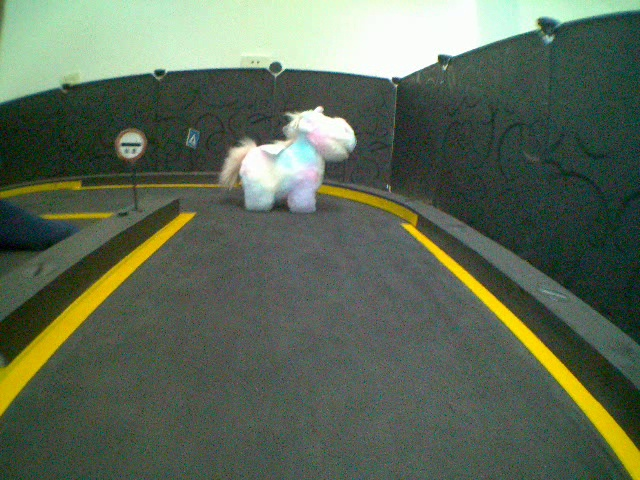unicorn: (219, 102, 357, 216)
